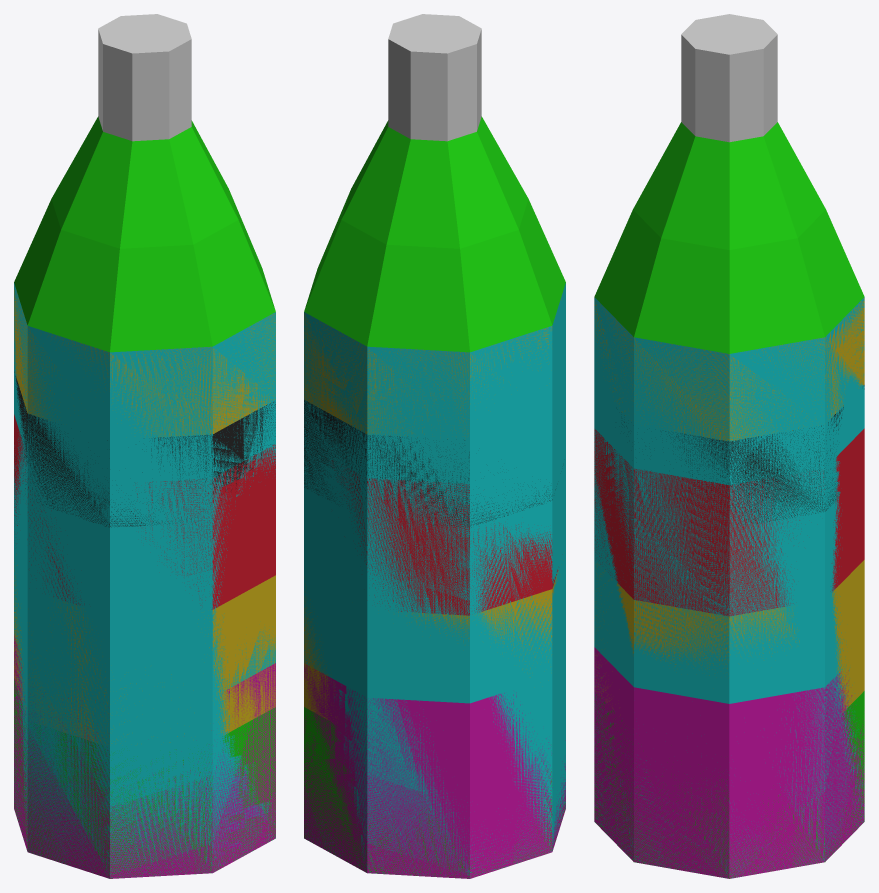
File: Bottle.fbx
3 renders of one model, left to right at view 1: azimuth 30°, elevation 25°; view 2: azimuth 150°, elevation 25°; view 3: azimuth 270°, elevation 25°, orthographic.
Parts seen in each view (by area): view 1: Bottle 5, Bottle 1, Bottle 3, Bottle 4; view 2: Bottle 5, Bottle 1, Bottle 3, Bottle 4; view 3: Bottle 5, Bottle 3, Bottle 1, Bottle 4.
Part boxes in pixels (x1,y1,x2,y2): Bottle 5: (14, 14, 275, 878); Bottle 1: (14, 291, 275, 877); Bottle 3: (14, 284, 275, 878); Bottle 4: (14, 286, 275, 527); Bottle 5: (304, 14, 565, 878); Bottle 1: (304, 321, 565, 878); Bottle 3: (304, 314, 565, 878); Bottle 4: (304, 313, 555, 527); Bottle 5: (594, 14, 864, 878); Bottle 3: (594, 297, 864, 878); Bottle 1: (594, 299, 864, 878); Bottle 4: (594, 297, 864, 524).
Bounding box in the file's own units: 28 × 90 × 28.
